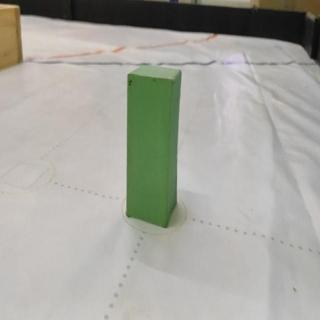greenbox: (124, 63, 184, 230)
